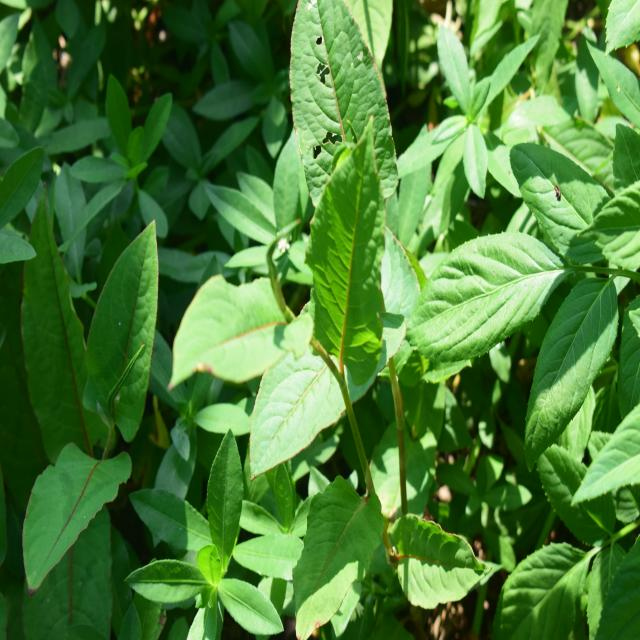Chinese_knotweed: (227, 0, 418, 458), (3, 210, 165, 548)
